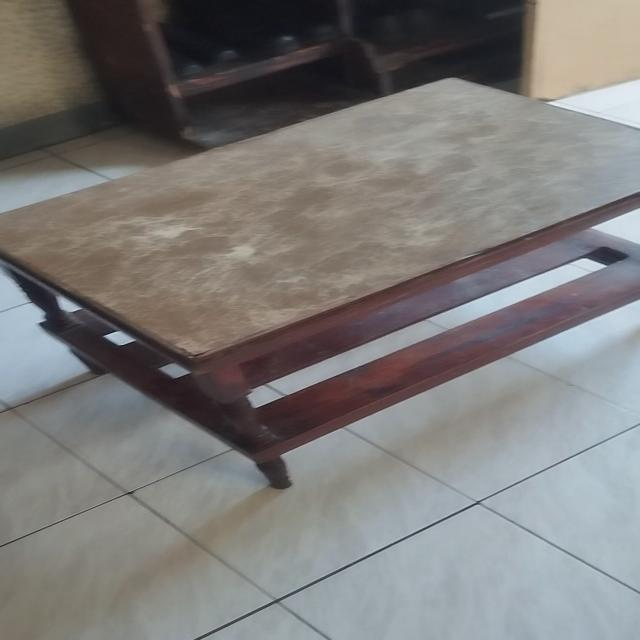table: (6, 70, 640, 493)
